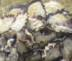3: (42, 42, 61, 61), (27, 18, 46, 32), (24, 52, 41, 61)
Oyster-Closed: (37, 33, 57, 46), (54, 26, 72, 33)
Oyster-Open: (46, 14, 67, 29), (28, 2, 46, 18), (44, 1, 63, 15), (12, 14, 27, 30), (0, 17, 14, 34), (63, 38, 72, 61)
